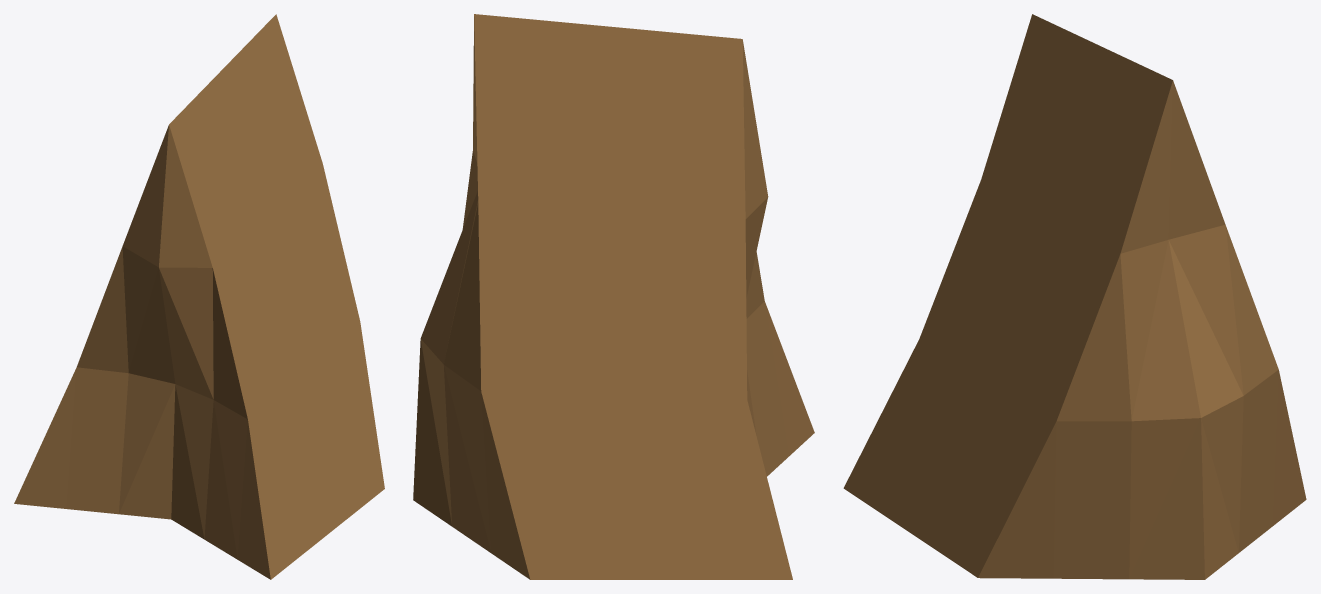
The model's file is aholo-optical-fan-tip.glb.
3 renders of one model, left to right at view 1: azimuth 30°, elevation 25°; view 2: azimuth 150°, elevation 25°; view 3: azimuth 270°, elevation 25°, orthographic. The views are drawn at different scales.
Bounding box in the file's own units: 0.3018 × 0.4018 × 0.3429.
